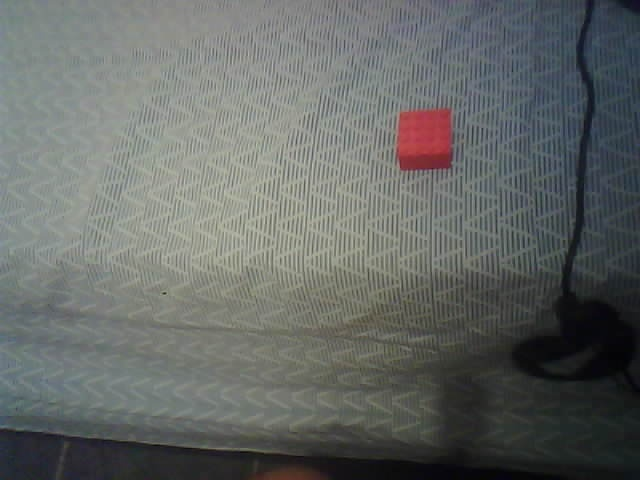lego: (395, 108, 453, 171)
